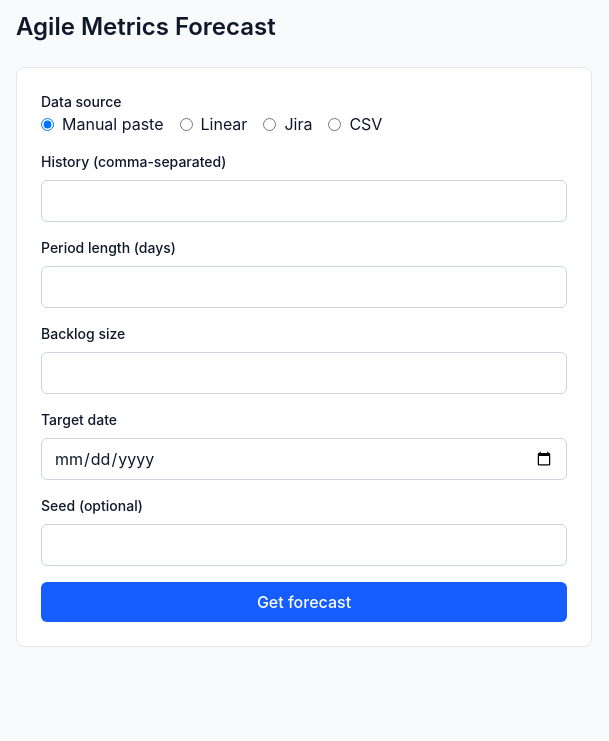
Test: App - CSV data-source toggle (spec 007) › switches back to the history field when manual paste is reselected from CSV mode
The width and height of the screenshot is (609, 741).
What coordinates should you click on to do the following:
click the radio button labelled "CSV"
I would click on:
 (335, 124)
Its box is [328,118,341,130].
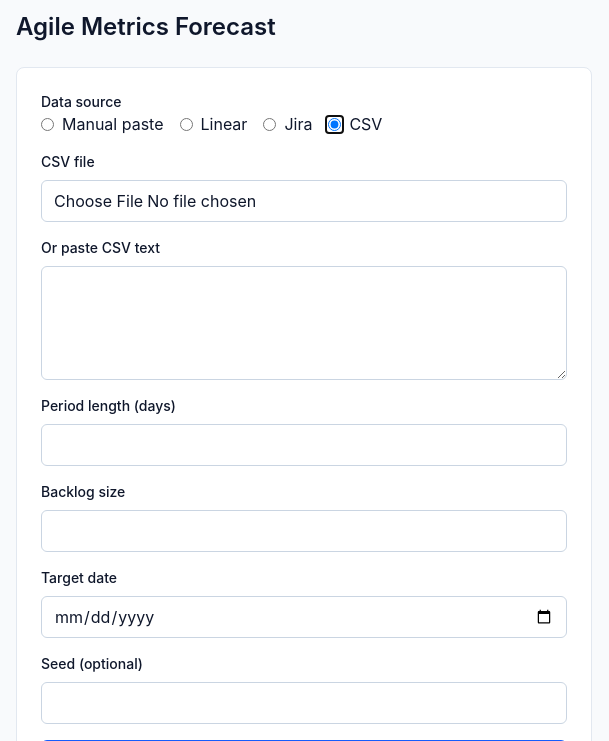
What coordinates should you click on to do the following:
click the radio button labelled "Manual paste"
I would click on:
 (48, 124)
Its box is [41,118,54,130].
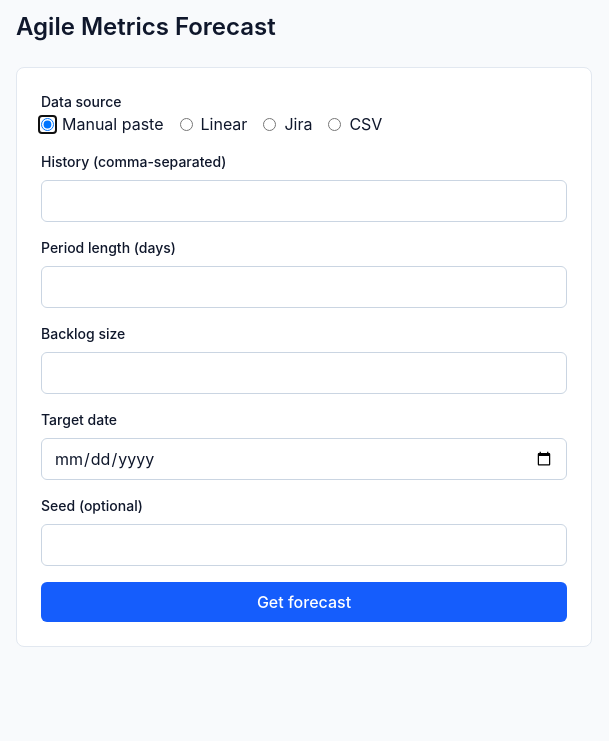
Expected: the field labelled "History (comma-separated)" is shown, [41,180,567,222]
Expected: the label labelled "CSV file" is gone
